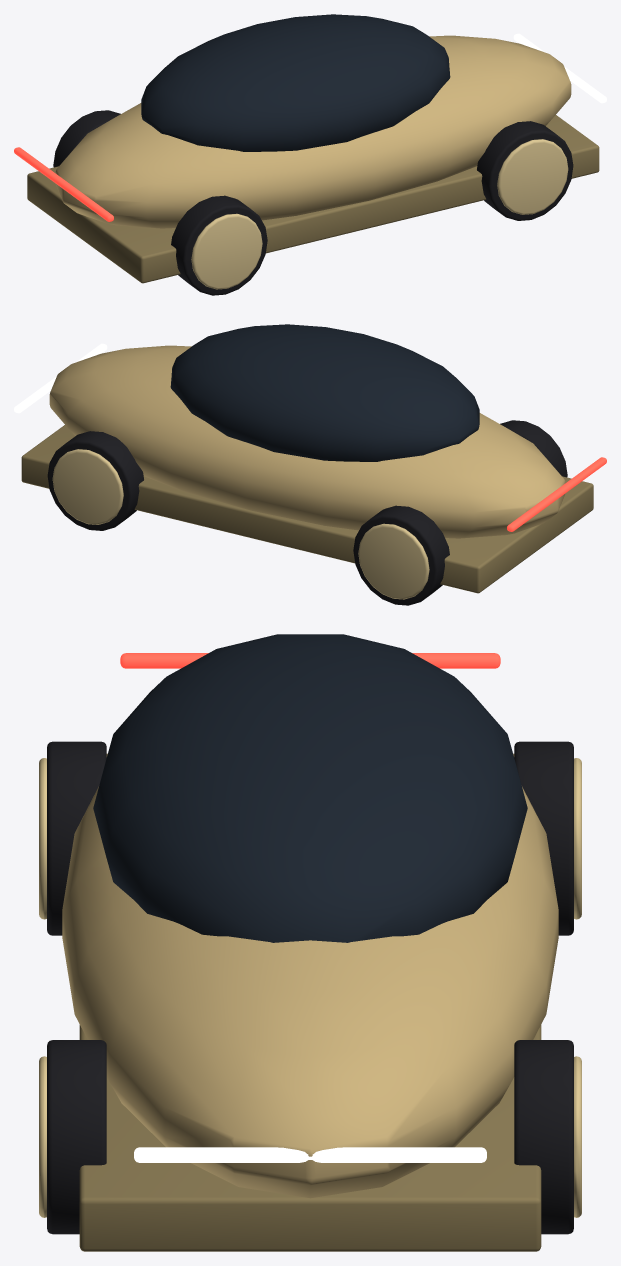
The model's file is cybercab.glb.
3 renders of one model, top to bottom at view 1: azimuth 30°, elevation 25°; view 2: azimuth 150°, elevation 25°; view 3: azimuth 270°, elevation 25°, orthographic. The views are drawn at different scales.
Visible parts, largest first — view 1: cybercab; view 2: cybercab; view 3: cybercab.
Part boxes in pixels (box(x1,y1,x2,y2)): cybercab: box(14, 14, 606, 295); cybercab: box(14, 324, 606, 605); cybercab: box(39, 634, 581, 1251).
Bounding box in the file's own units: 4.28 × 1.44 × 2.
